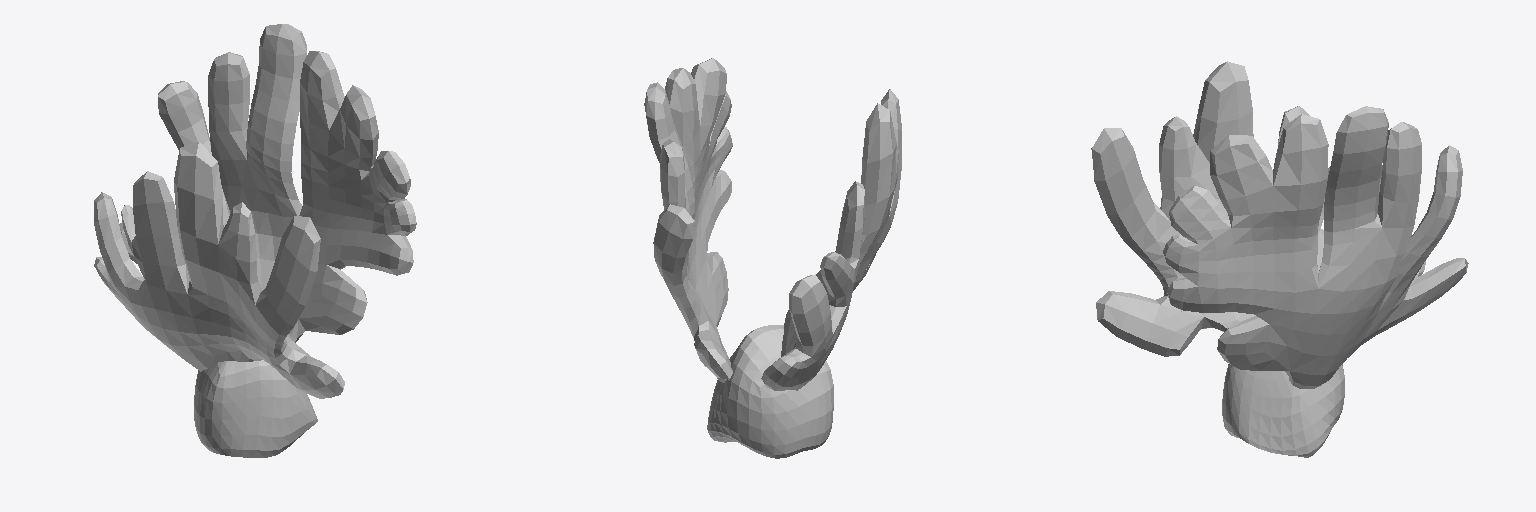
Rendered from Elkhorn_01_LOD0.obj.
The picture shows the model from 3 angles: view 1: azimuth 30°, elevation 25°; view 2: azimuth 150°, elevation 25°; view 3: azimuth 270°, elevation 25°; orthographic projection.
Parts seen in each view (by area): view 1: Elkhorn_01_LOD0_Cube.514; view 2: Elkhorn_01_LOD0_Cube.514; view 3: Elkhorn_01_LOD0_Cube.514.
Part boxes in pixels (x1,y1,x2,y2): Elkhorn_01_LOD0_Cube.514: (94, 24, 416, 457); Elkhorn_01_LOD0_Cube.514: (644, 58, 901, 458); Elkhorn_01_LOD0_Cube.514: (1091, 61, 1468, 457).
Size of the model in its own units: 5.85 by 9.4 by 8.76.